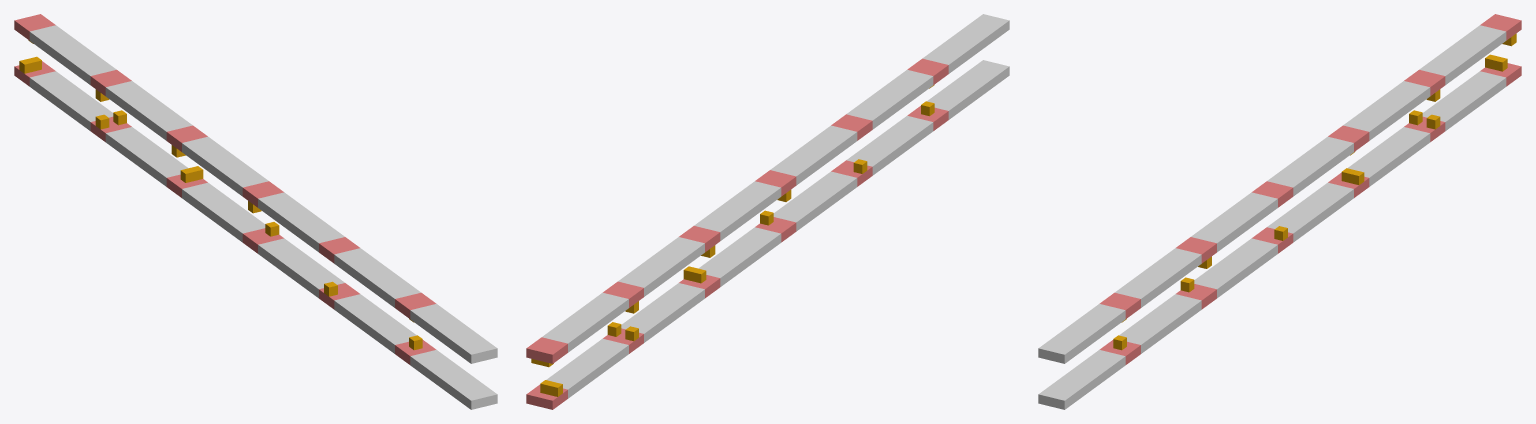
File: modularTrack.fbx
The picture shows the model from 3 angles, left to right: view 1: azimuth 30°, elevation 25°; view 2: azimuth 150°, elevation 25°; view 3: azimuth 330°, elevation 25°; orthographic projection.
Parts seen in each view (by area): view 1: pCube1 (×12), pCube4 (×12), pCube2 (×12), pCube3 (×12), pCube6 (×9); view 2: pCube1 (×12), pCube2 (×12), pCube3 (×12), pCube4 (×12), pCube6 (×10); view 3: pCube1 (×12), pCube4 (×12), pCube2 (×12), pCube3 (×12), pCube6 (×9).
Boxes of the visible parts, left/top/right/bottom form: pCube1 (×12): left=75, top=58, right=497, bottom=409; pCube4 (×12): left=29, top=25, right=451, bottom=376; pCube2 (×12): left=60, top=47, right=481, bottom=398; pCube3 (×12): left=45, top=36, right=466, bottom=387; pCube6 (×9): left=14, top=14, right=436, bottom=364; pCube1 (×12): left=587, top=14, right=1009, bottom=364; pCube2 (×12): left=572, top=25, right=994, bottom=376; pCube3 (×12): left=557, top=36, right=978, bottom=387; pCube4 (×12): left=542, top=47, right=963, bottom=398; pCube6 (×10): left=526, top=58, right=948, bottom=409; pCube1 (×12): left=1038, top=58, right=1460, bottom=409; pCube4 (×12): left=1084, top=25, right=1506, bottom=376; pCube2 (×12): left=1054, top=47, right=1475, bottom=398; pCube3 (×12): left=1069, top=36, right=1490, bottom=387; pCube6 (×9): left=1099, top=14, right=1521, bottom=364.
Bounding box in the file's own units: 30 × 60 × 900.
